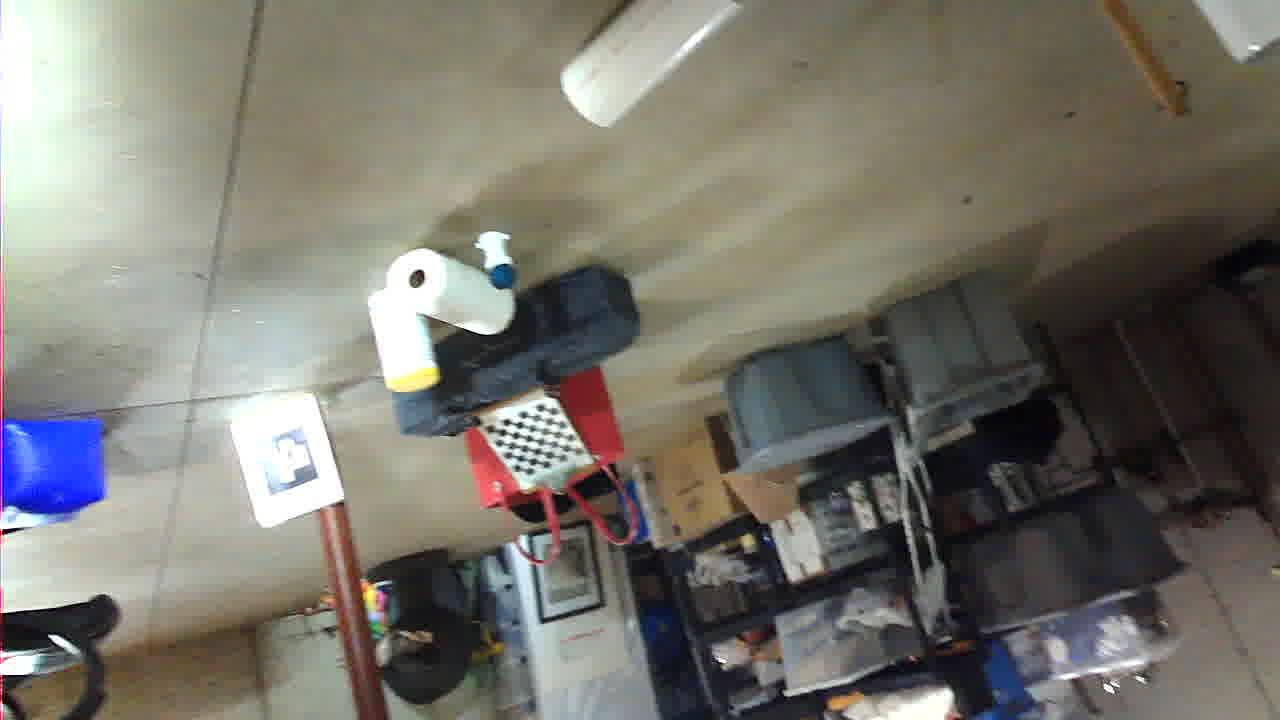coral: (537, 592, 723, 720)
